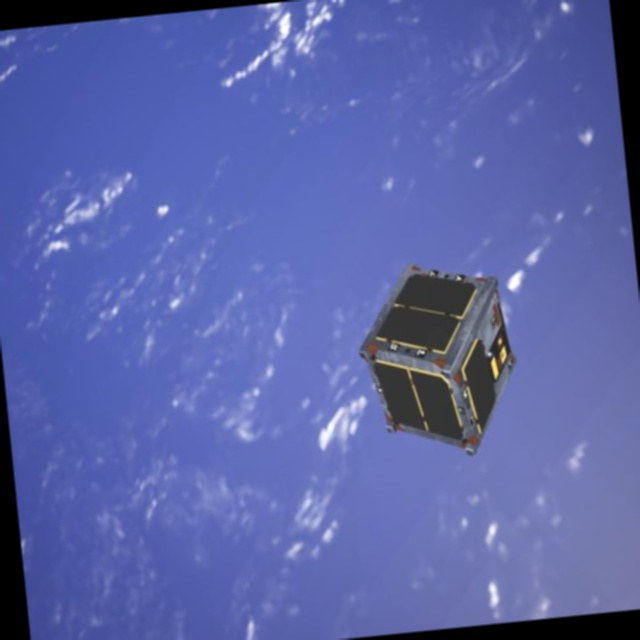satellite: (350, 249, 531, 469)
